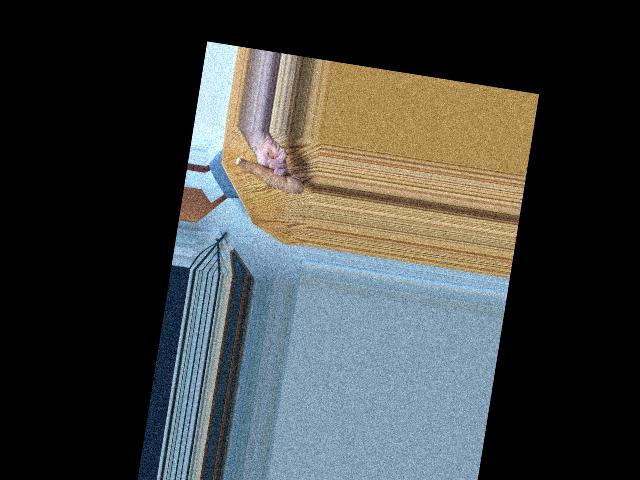sweet_potato: (229, 156, 304, 199)
